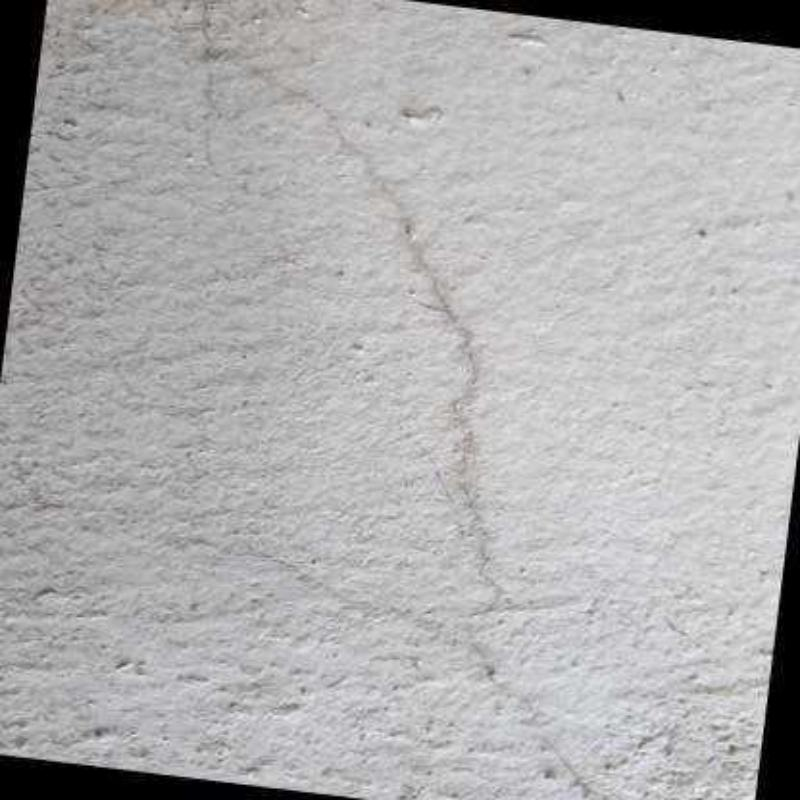pothole: (193, 0, 604, 800)
